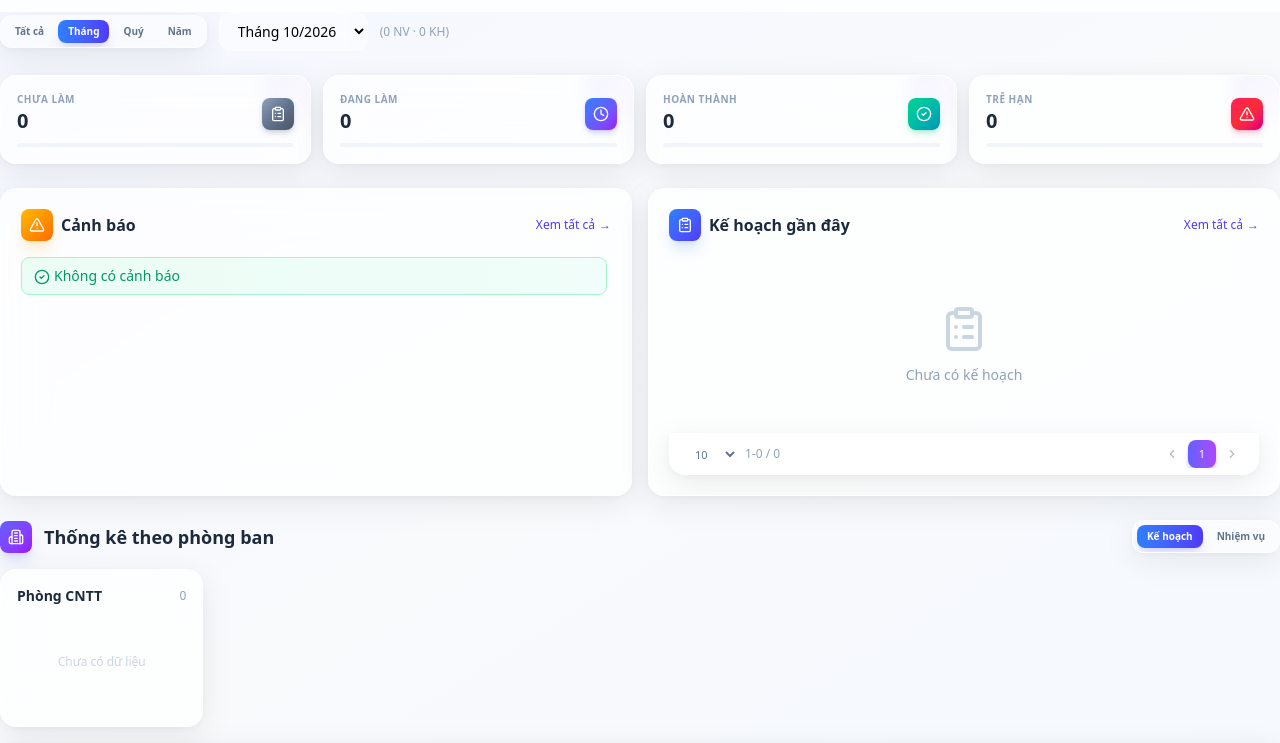
Scenario: DashboardPage › shows stats mode control and year picker
Check: the tab "Tất cả" is shown, box x1=5 y1=20 x2=54 y2=43
Check: the tab "Tháng" is shown, box x1=58 y1=20 x2=110 y2=43
Click the tab "Năm" at point(180, 32), box x1=158 y1=20 x2=202 y2=43
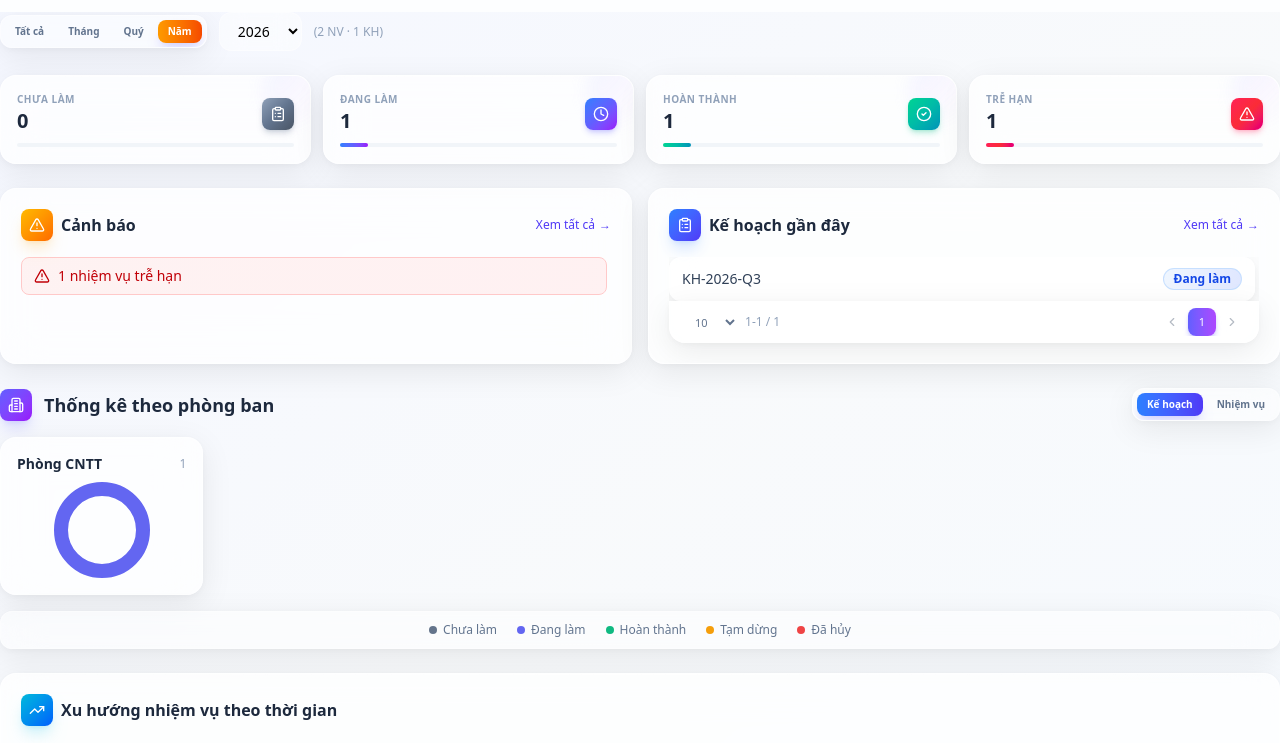
Check: the dropdown named "Chọn năm" is shown, box x1=219 y1=12 x2=302 y2=51
